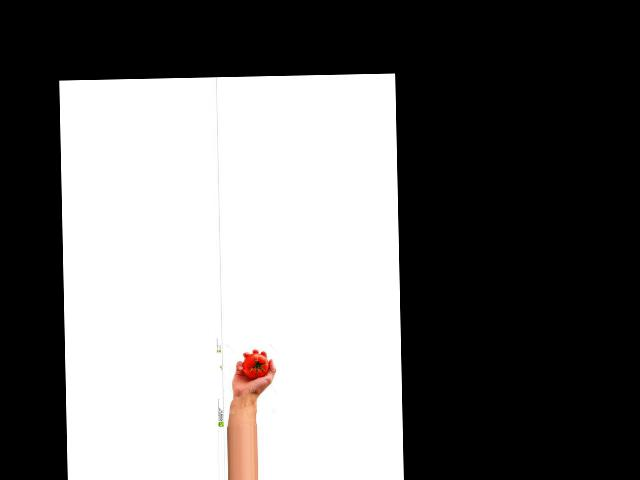tomato: (242, 352, 268, 378)
